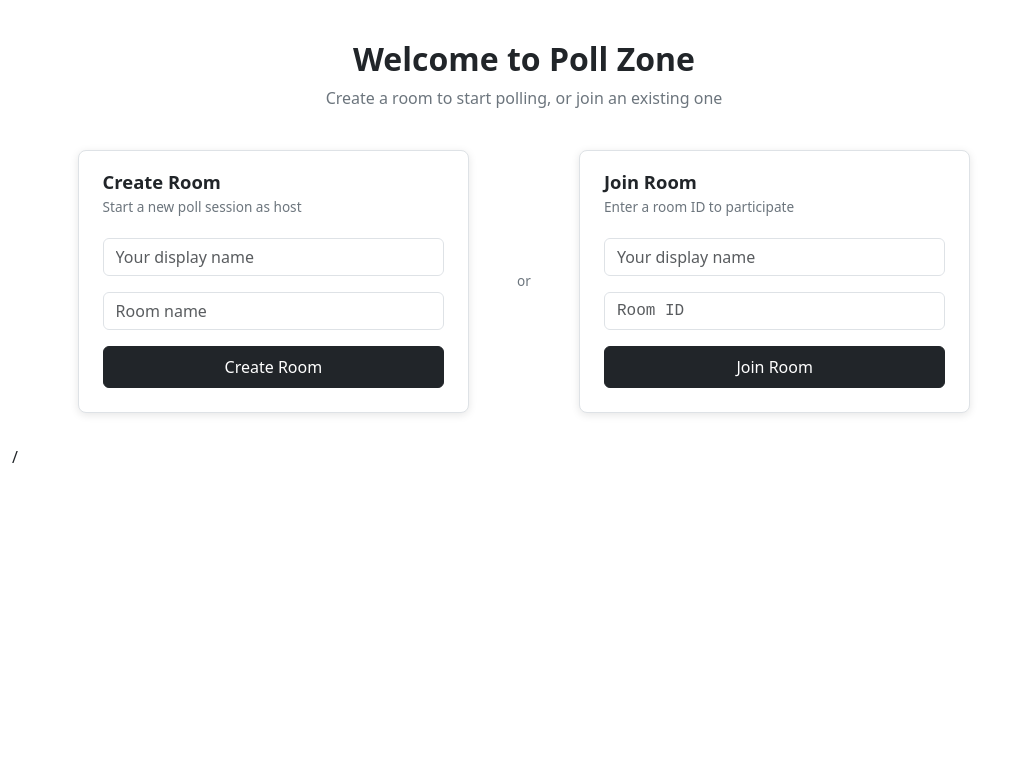
Home Flow Tests › Host Create Room Flow › shows error when createRoom throws exception
In the field with placeholder "Your display name" below "Start a new poll session as host": [273, 257] box x1=103 y1=238 x2=444 y2=276, type "C"
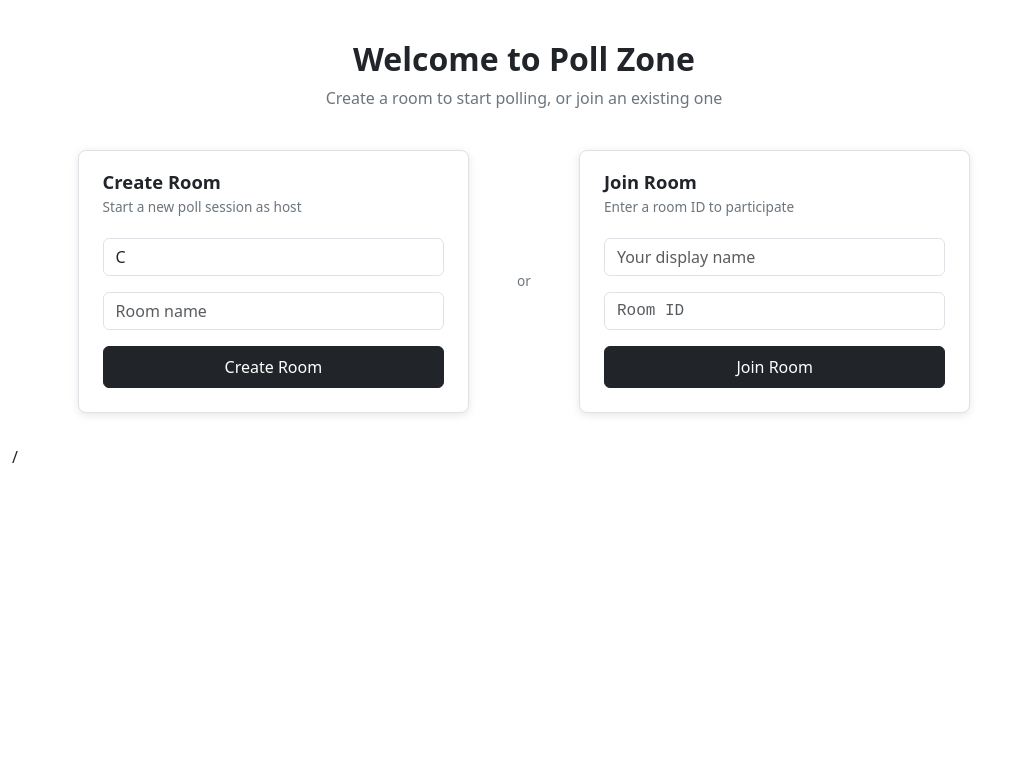
In the field with placeholder "Room name": [273, 311] box x1=103 y1=292 x2=444 y2=330, type "R"
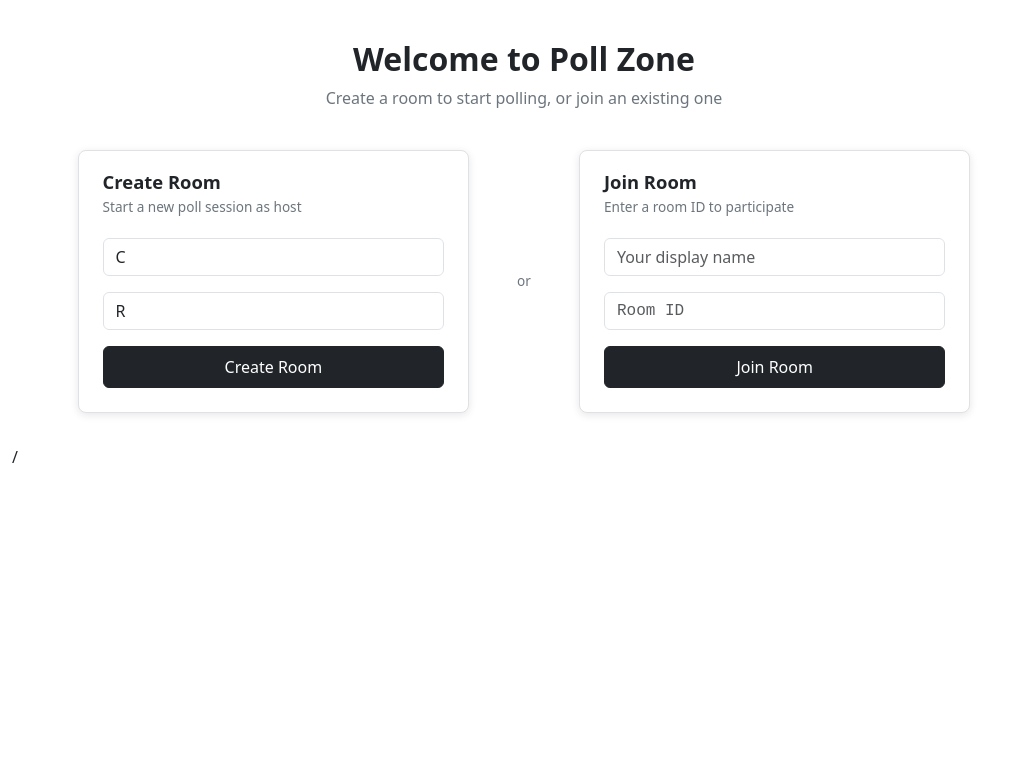
Click the button "Create Room": [273, 367] box x1=103 y1=346 x2=444 y2=388
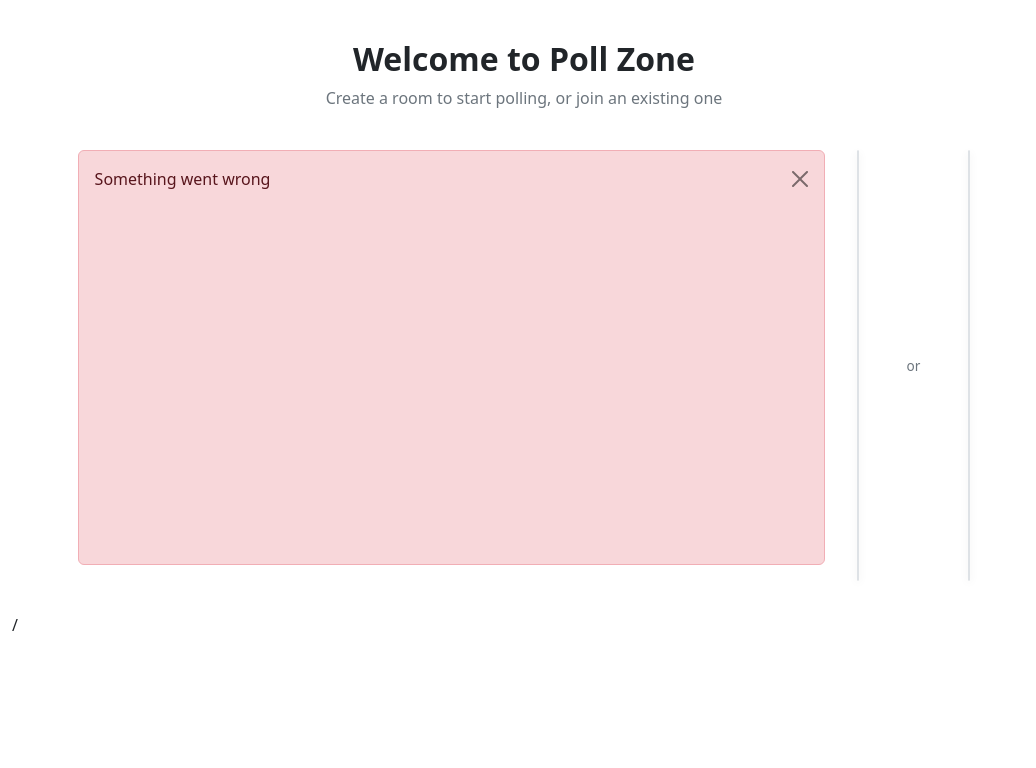
Expected: the text "Something went wrong" is shown, x1=78 y1=150 x2=825 y2=565
